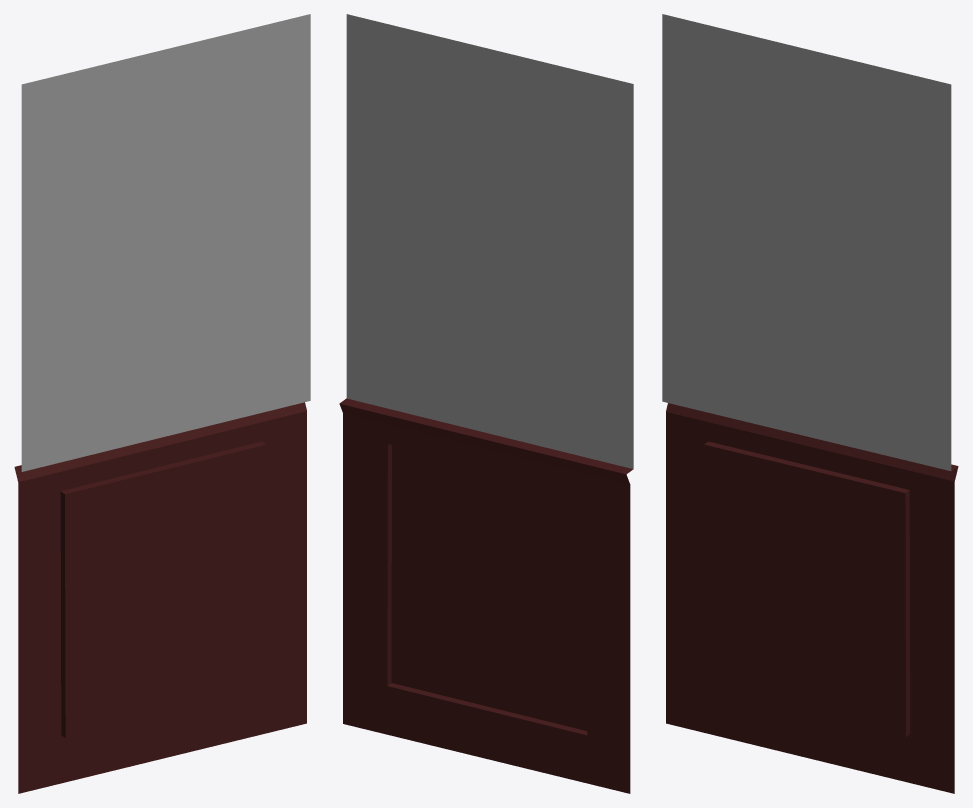
The model's file is HalfWall.fbx.
The picture shows the model from 3 angles, left to right: view 1: azimuth 30°, elevation 25°; view 2: azimuth 150°, elevation 25°; view 3: azimuth 330°, elevation 25°; orthographic projection.
Visible parts, largest first — view 1: polySurface59; view 2: polySurface59; view 3: polySurface59.
Boxes of the visible parts, <box> form: polySurface59: <box>14,14,310,793</box>; polySurface59: <box>339,14,633,793</box>; polySurface59: <box>662,14,958,793</box>.
Bounding box in the file's own units: 1.35 × 3.18 × 0.0651.
